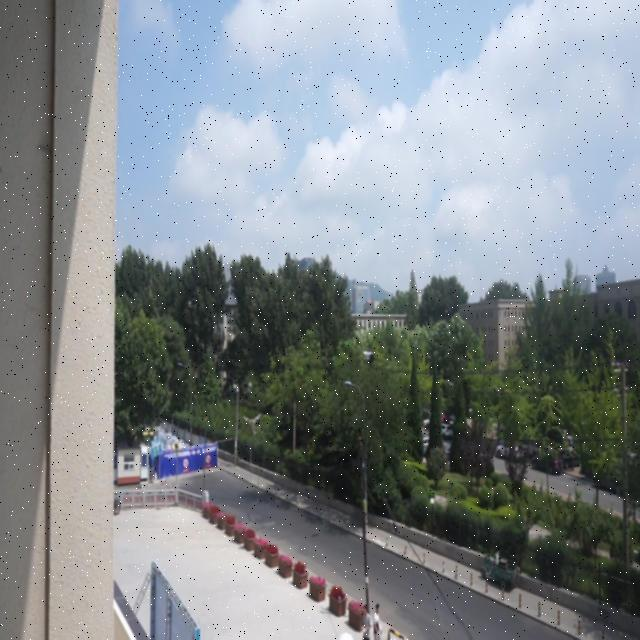UAV: (363, 351, 374, 360)
